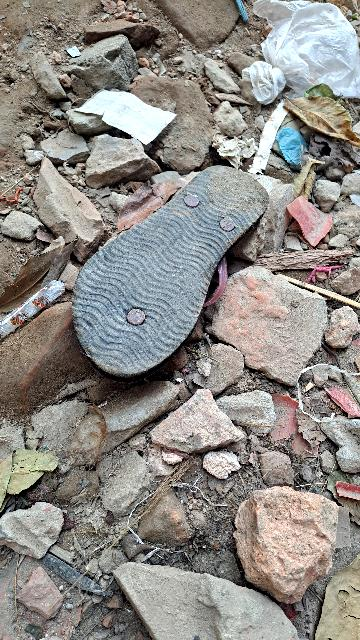sandal: (61, 148, 295, 384)
